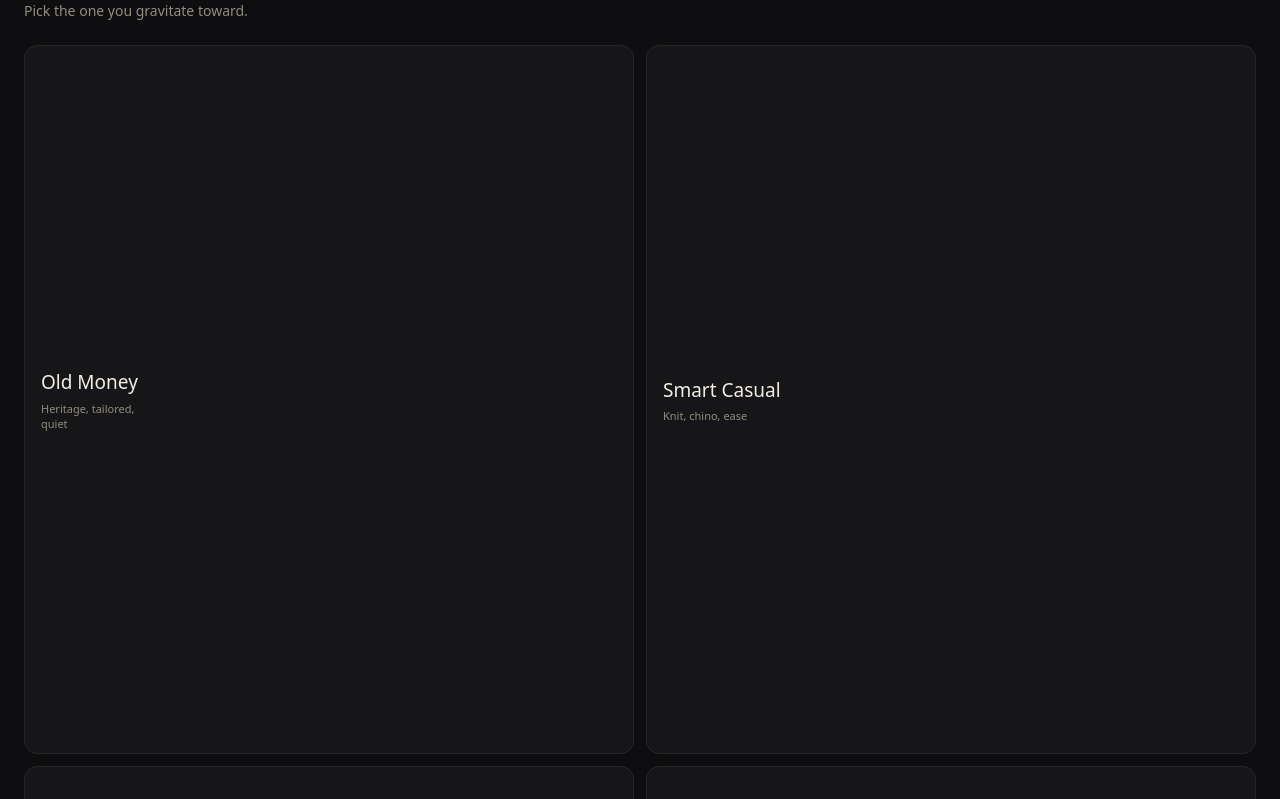
Test: later steps do not repeat it — once, at the point of agreement
(page scrolled)
Pick the first option of question one, then Continue.
Click the button "Old Money Heritage, tailored, quiet" at (329, 400), box [24,45,634,754]
(page scrolled)
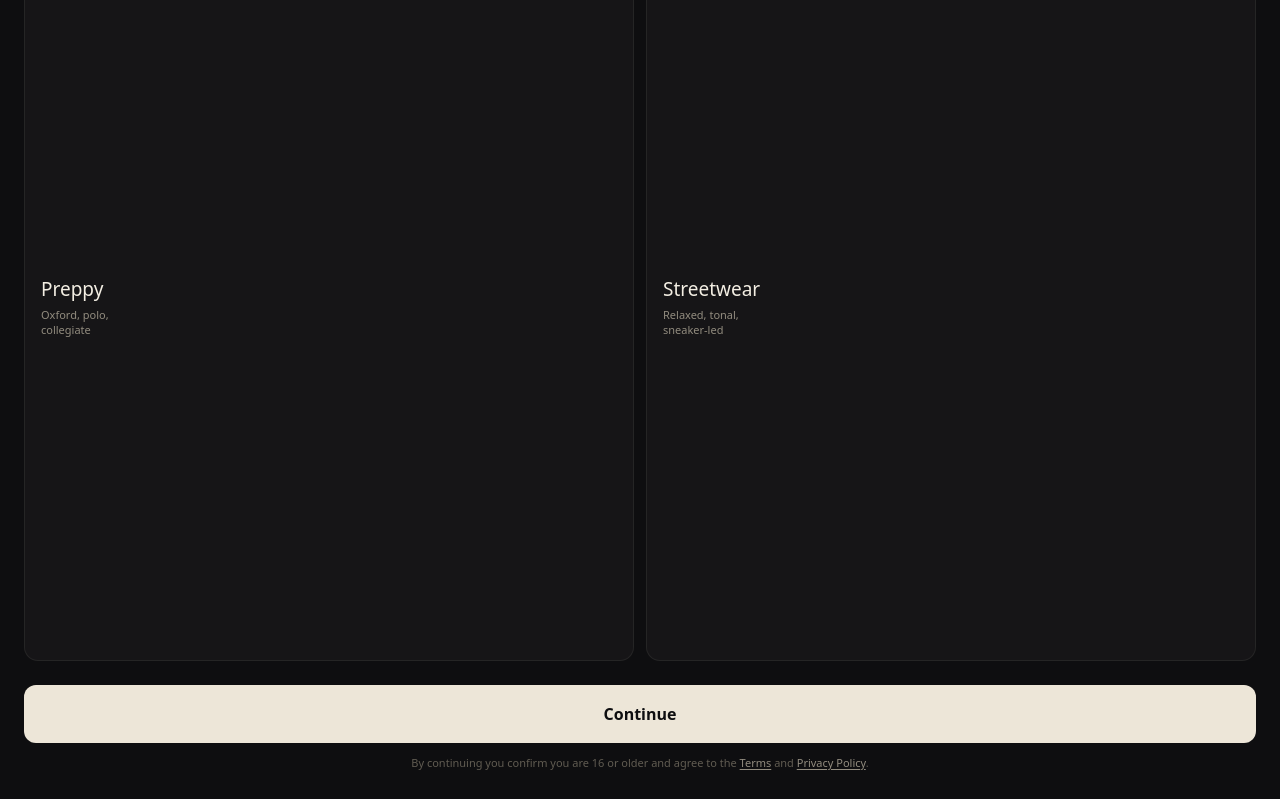
Click the button "Continue" at (640, 714), box [24,685,1256,743]
(page scrolled)
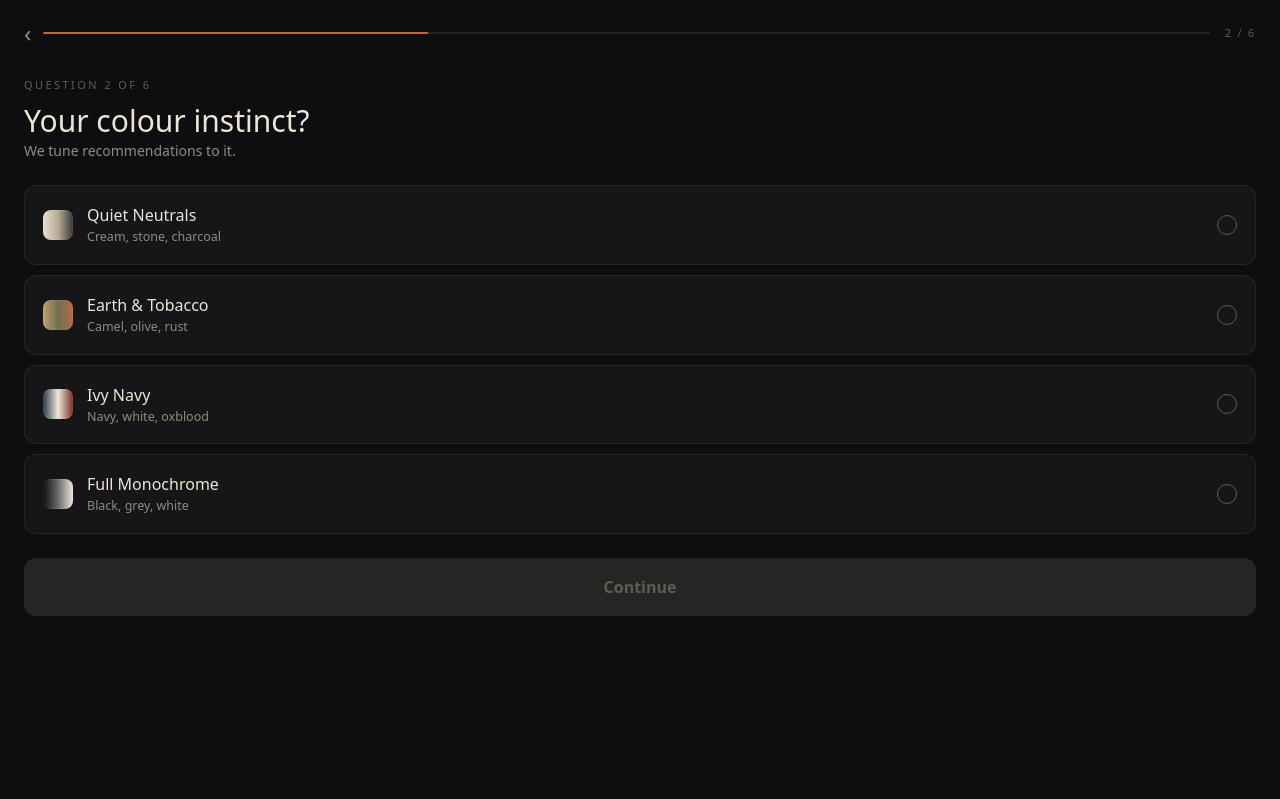
Expected: the link "Privacy Policy" is gone
